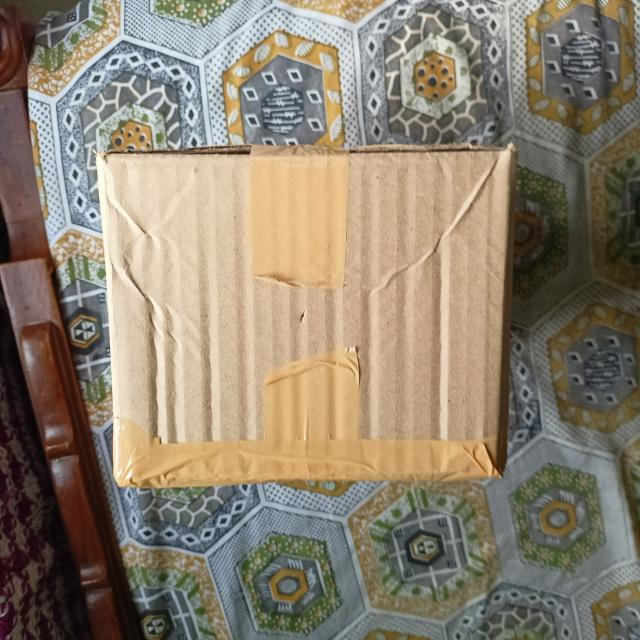box: (102, 148, 510, 484)
